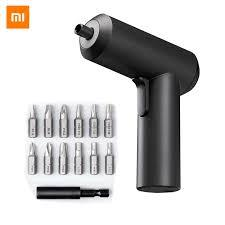screwdriver: (75, 15, 199, 192), (88, 102, 98, 137), (42, 103, 52, 137), (27, 141, 37, 174), (103, 103, 112, 137), (58, 103, 67, 137), (43, 141, 52, 174), (104, 141, 113, 174), (58, 141, 67, 173), (73, 141, 82, 173), (74, 103, 82, 137), (29, 103, 37, 137), (89, 141, 97, 174)
